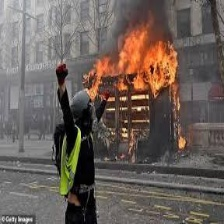fire: (82, 36, 188, 160)
smoke: (110, 1, 172, 32)
